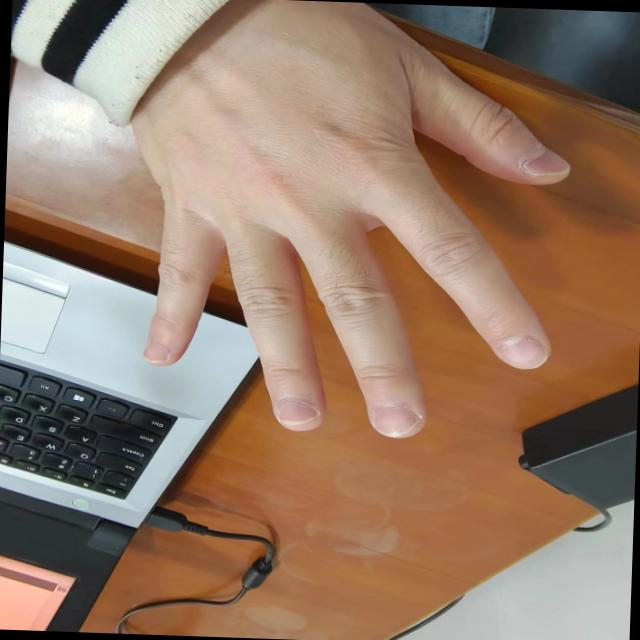Nail: (497, 336, 546, 368), (521, 145, 569, 175), (372, 404, 417, 435), (276, 400, 318, 423), (142, 341, 168, 360)
